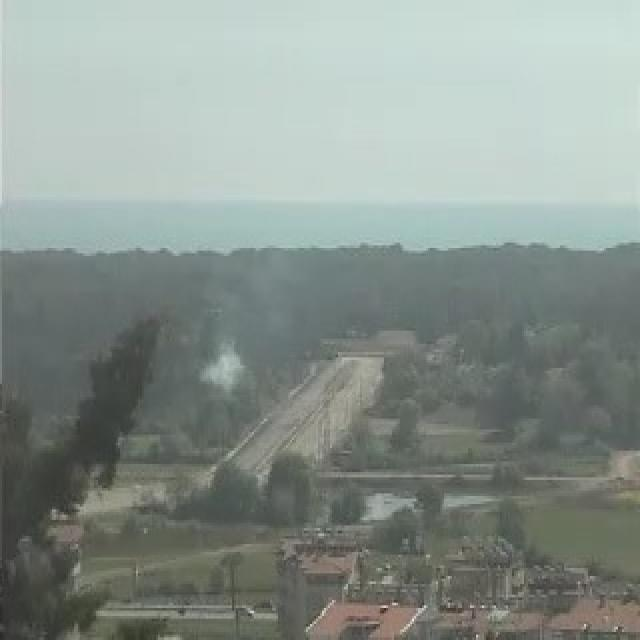smoke: (190, 334, 261, 394)
